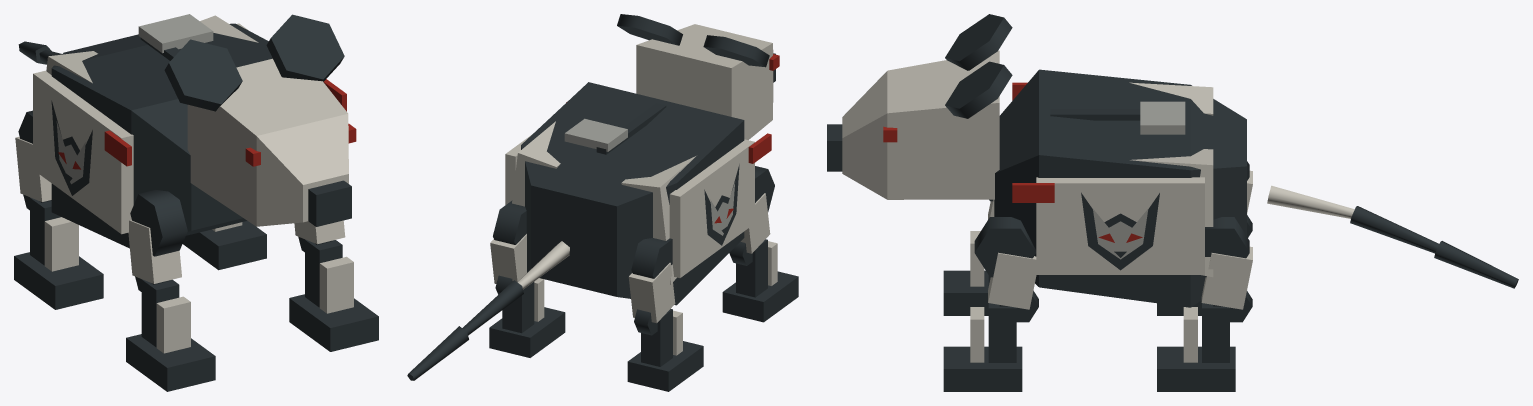
The picture shows the model from 3 angles, left to right: view 1: azimuth 30°, elevation 25°; view 2: azimuth 150°, elevation 25°; view 3: azimuth 270°, elevation 25°; orthographic projection. The views are drawn at different scales.
Parts seen in each view (by area): view 1: nanite-rat-painted, nanite-head-painted, nanite-knee--1-true-painted, nanite-knee-1-true-painted, nanite-knee--1-false-painted, nanite-hip--1-true-painted, nanite-knee-1-false-painted, company-emblem-left-painted, nanite-hip--1-false-painted, nanite-hip-1-true-painted; view 2: nanite-rat-painted, nanite-head-painted, nanite-knee--1-false-painted, nanite-knee--1-true-painted, nanite-knee-1-false-painted, nanite-hip--1-false-painted, nanite-hip-1-false-painted, nanite-hip--1-true-painted, company-emblem-left-painted; view 3: nanite-rat-painted, nanite-head-painted, nanite-knee-1-true-painted, nanite-knee-1-false-painted, nanite-hip-1-true-painted, nanite-hip-1-false-painted, company-emblem-right-painted, nanite-knee--1-true-painted.
Boxes of the visible parts, x1,y1,x2,y2 form: nanite-rat-painted: (18,14,346,248); nanite-head-painted: (164,14,356,226); nanite-knee--1-true-painted: (126,276,215,391); nanite-knee-1-true-painted: (289,237,378,351); nanite-knee--1-false-painted: (14,194,103,309); nanite-hip--1-true-painted: (128,190,187,283); nanite-knee-1-false-painted: (182,221,266,270); company-emblem-left-painted: (51,100,92,195); nanite-hip--1-false-painted: (15,110,51,201); nanite-hip-1-true-painted: (294,220,345,244); nanite-rat-painted: (407,82,771,380); nanite-head-painted: (617,14,779,140); nanite-knee--1-false-painted: (627,309,703,391); nanite-knee--1-true-painted: (722,239,798,322); nanite-knee-1-false-painted: (489,275,565,357); nanite-hip--1-false-painted: (628,238,675,323); nanite-hip-1-false-painted: (490,200,526,283); nanite-hip--1-true-painted: (740,166,774,253); company-emblem-left-painted: (704,164,739,245); nanite-rat-painted: (994,69,1518,307); nanite-head-painted: (827,14,1012,199); nanite-knee-1-true-painted: (943,290,1038,391); nanite-knee-1-false-painted: (1157,291,1252,391); nanite-hip-1-true-painted: (974,217,1036,309); nanite-hip-1-false-painted: (1201,217,1252,309); company-emblem-right-painted: (1081,192,1159,270); nanite-knee--1-true-painted: (943,231,990,315).
Bounding box in the file's own units: 1.48 × 2.01 × 4.19.
